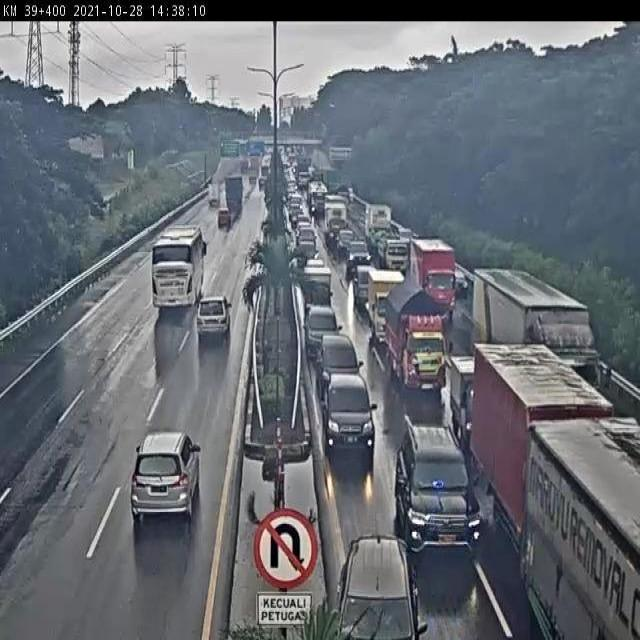big bus: (339, 530, 434, 640), (138, 228, 210, 321)
big truck: (469, 340, 608, 544), (528, 421, 640, 640), (471, 263, 598, 408), (388, 284, 441, 389), (449, 354, 498, 442), (413, 235, 459, 312), (366, 262, 409, 342)
car: (392, 412, 477, 552), (123, 418, 215, 538), (323, 369, 383, 464), (316, 336, 365, 408), (303, 301, 350, 371), (192, 303, 235, 353)
small truck: (301, 262, 339, 314)
